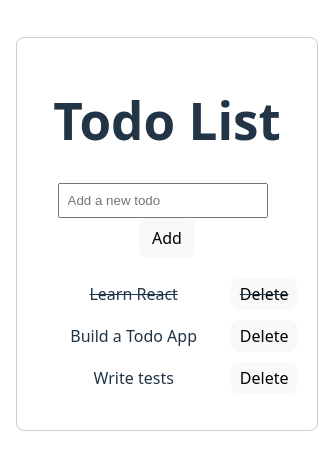
Test: allows users to add a new todo
Type "New Test Todo" into the field with placeholder "Add a new todo" at (163, 200), box [58,183,268,218]
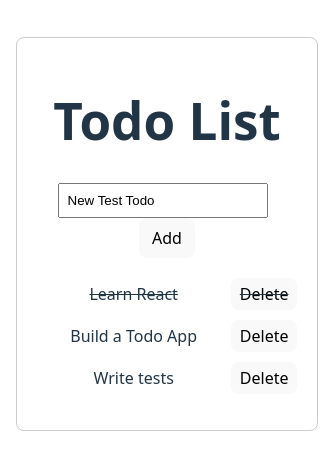
Click the button "Add" at (167, 238), box [139,218,195,258]
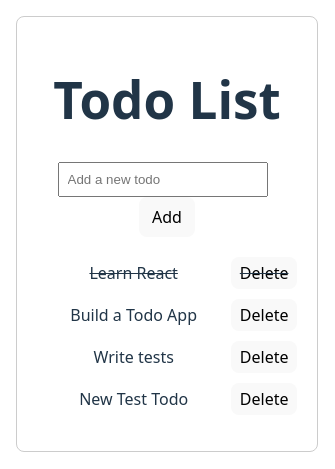
Result: the text "New Test Todo" is shown at [79,388,188,410]
Result: the field with placeholder "Add a new todo" is empty at [58,162,268,197]
